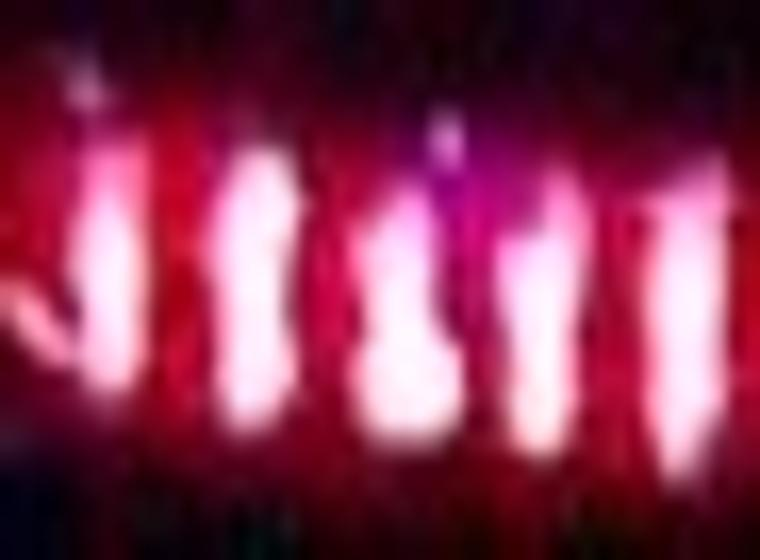1: (350, 151, 462, 440), (208, 137, 310, 437), (631, 174, 732, 469), (494, 174, 581, 451)
J: (11, 116, 155, 410)
